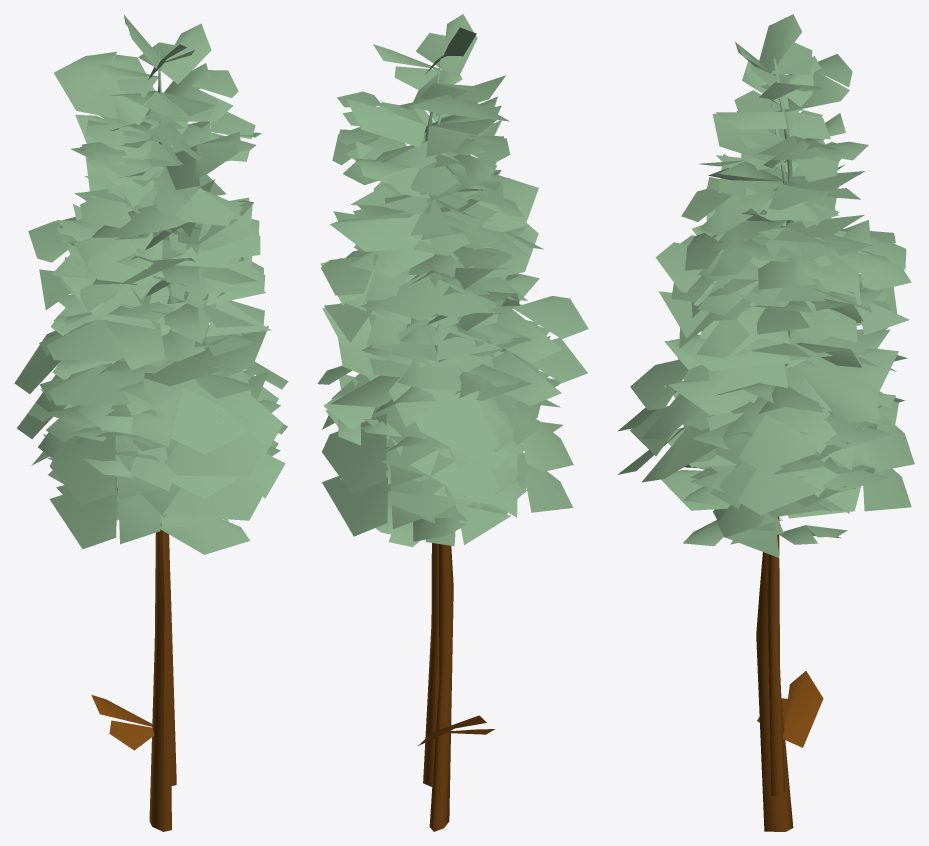
File: tree.fbx
3 renders of one model, left to right at view 1: azimuth 30°, elevation 25°; view 2: azimuth 150°, elevation 25°; view 3: azimuth 270°, elevation 25°, orthographic.
Parts seen in each view (by area): view 1: Geometry_Bamboo_A_LOD26, Geometry_Bamboo_A_LOD27; view 2: Geometry_Bamboo_A_LOD26, Geometry_Bamboo_A_LOD27; view 3: Geometry_Bamboo_A_LOD26, Geometry_Bamboo_A_LOD27.
Part boxes in pixels (x1=…): Geometry_Bamboo_A_LOD26: x1=14, y1=14, x2=288, y2=785; Geometry_Bamboo_A_LOD27: x1=17, y1=95, x2=287, y2=831; Geometry_Bamboo_A_LOD26: x1=317, y1=14, x2=588, y2=787; Geometry_Bamboo_A_LOD27: x1=322, y1=115, x2=587, y2=831; Geometry_Bamboo_A_LOD26: x1=618, y1=14, x2=914, y2=796; Geometry_Bamboo_A_LOD27: x1=617, y1=104, x2=911, y2=831.
Size of the model in its own units: 5.31 by 16.6 by 5.59.
